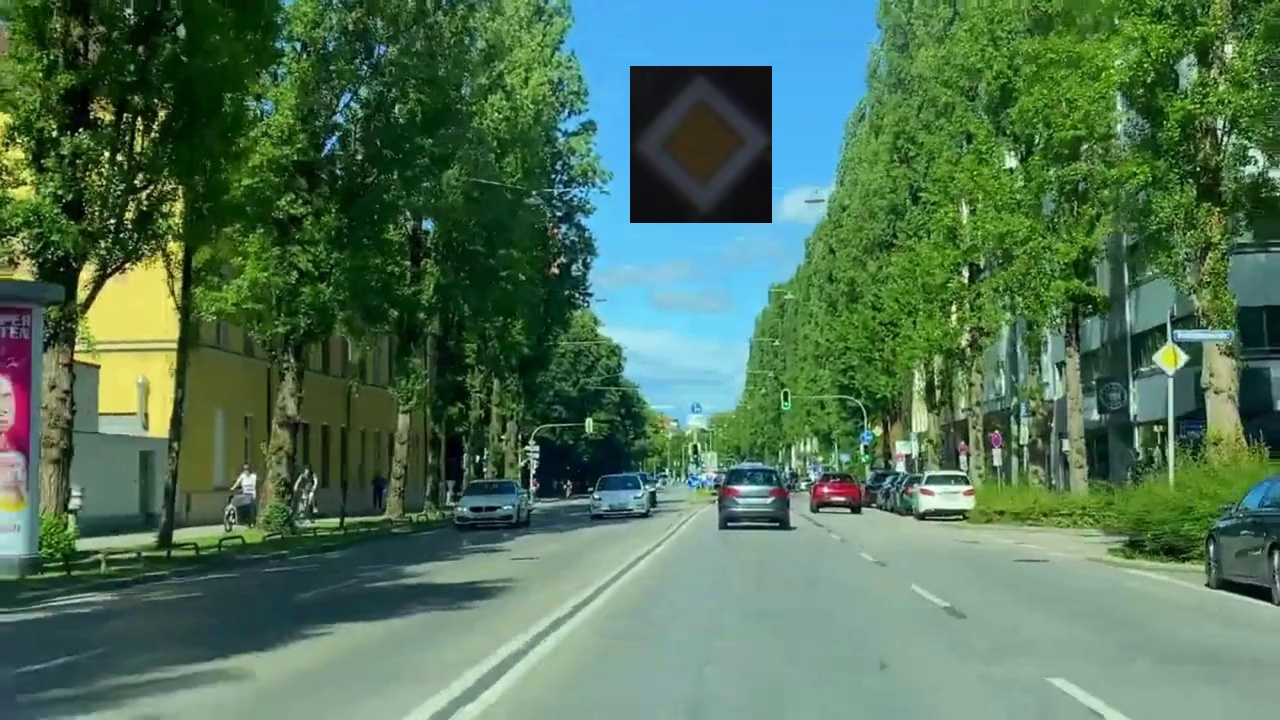Priority road: (630, 66, 772, 223)
